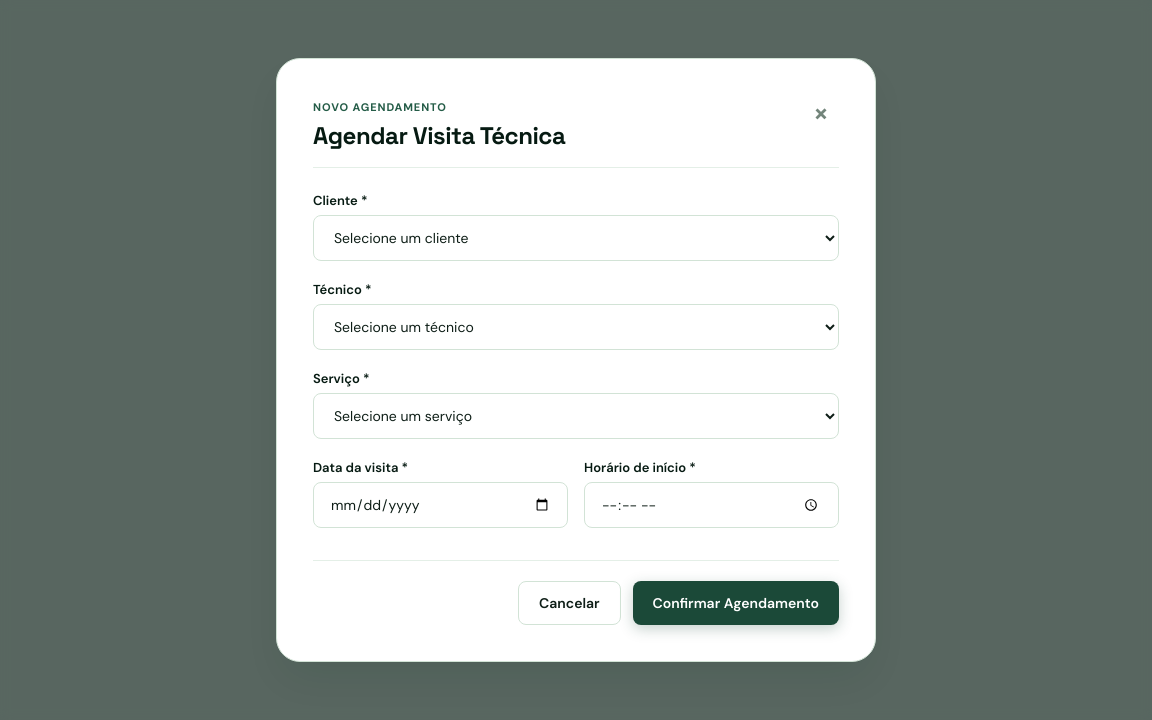
Scenario: CreateAppointmentModal › displays service duration and price when service is selected
This screenshot has width=1152, height=720.
Select "Troca de compressor (90 min - R$ 350,00)" in the dropdown labelled "Serviço *" at (576, 416), box [313,393,839,439]
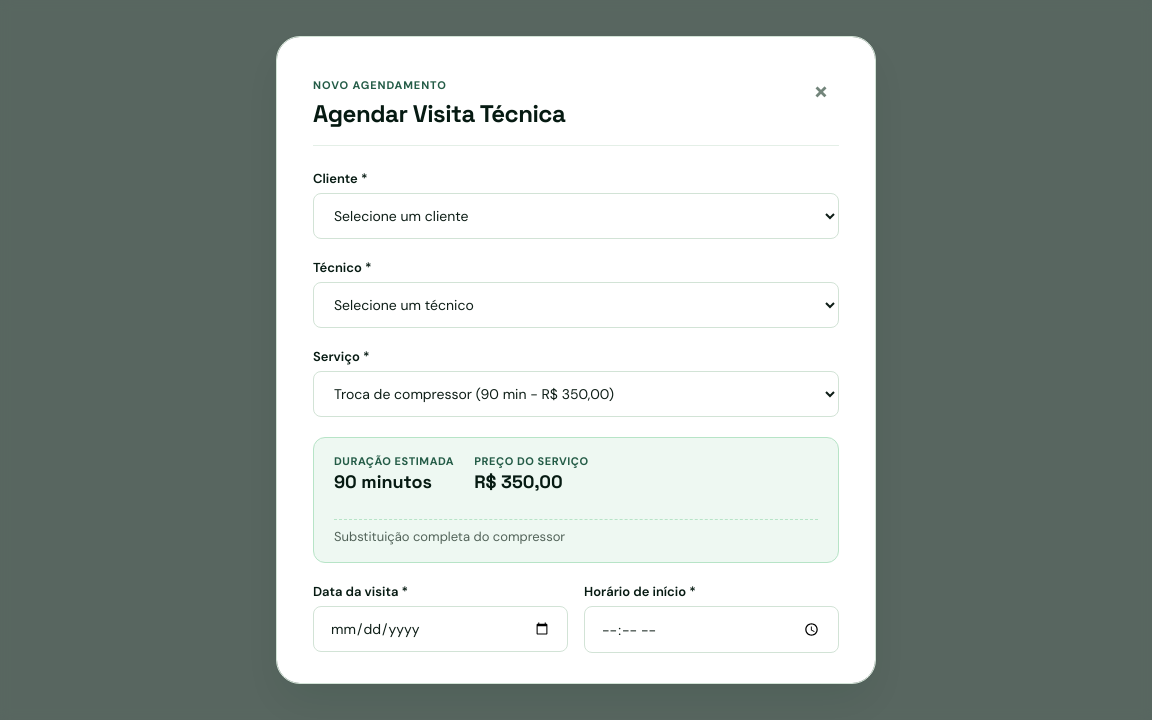
Expected: the element named "Detalhes do serviço selecionado" is shown, [313,437,839,563]
Expected: the text "90 minutos" is shown, [334,470,432,493]
Expected: the text "Substituição completa do compressor" is shown, [334,519,818,546]
